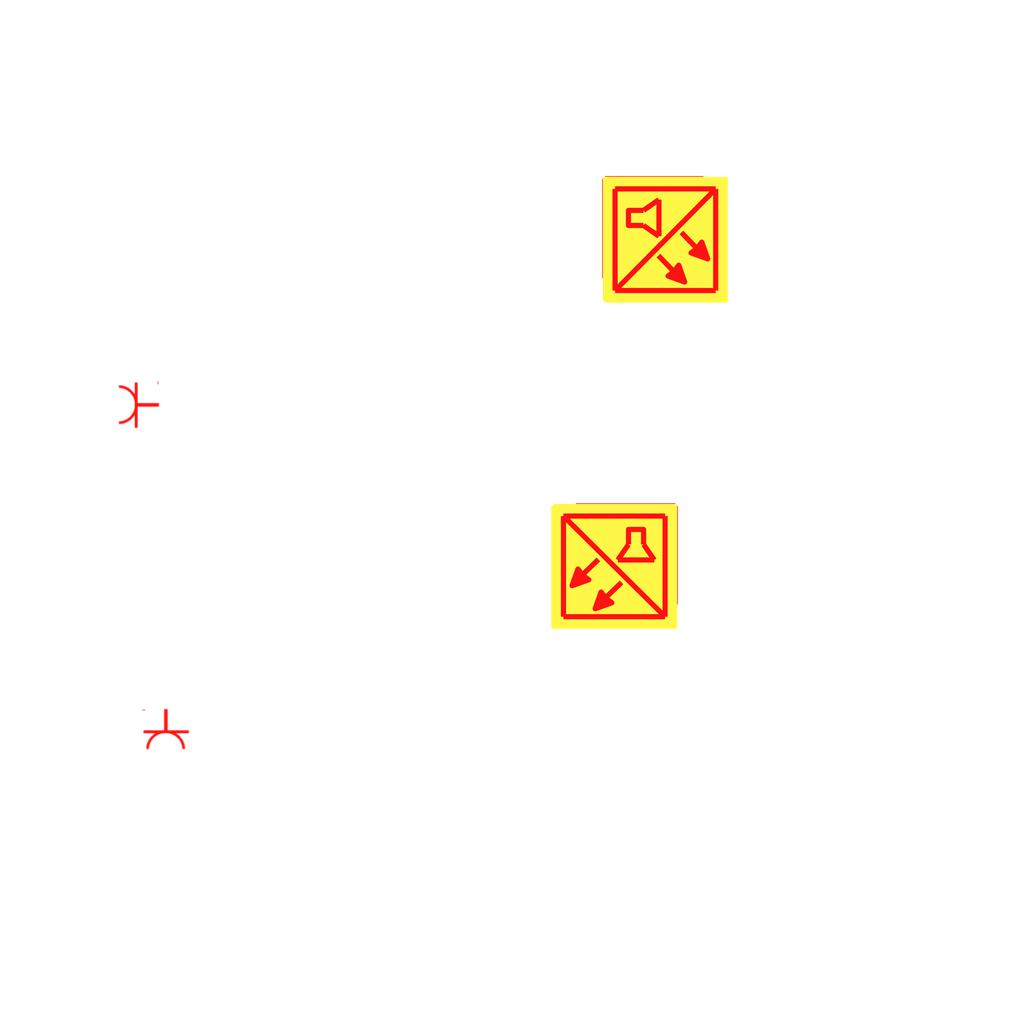OKW_Multisensormelder_(Kombination_optischer_Rauch-Kahlenmonoxid_Waerme-Melder): (599, 174, 731, 306), (548, 500, 680, 632)
Schukosteckdose_einfach: (140, 708, 190, 751), (117, 379, 160, 429)
